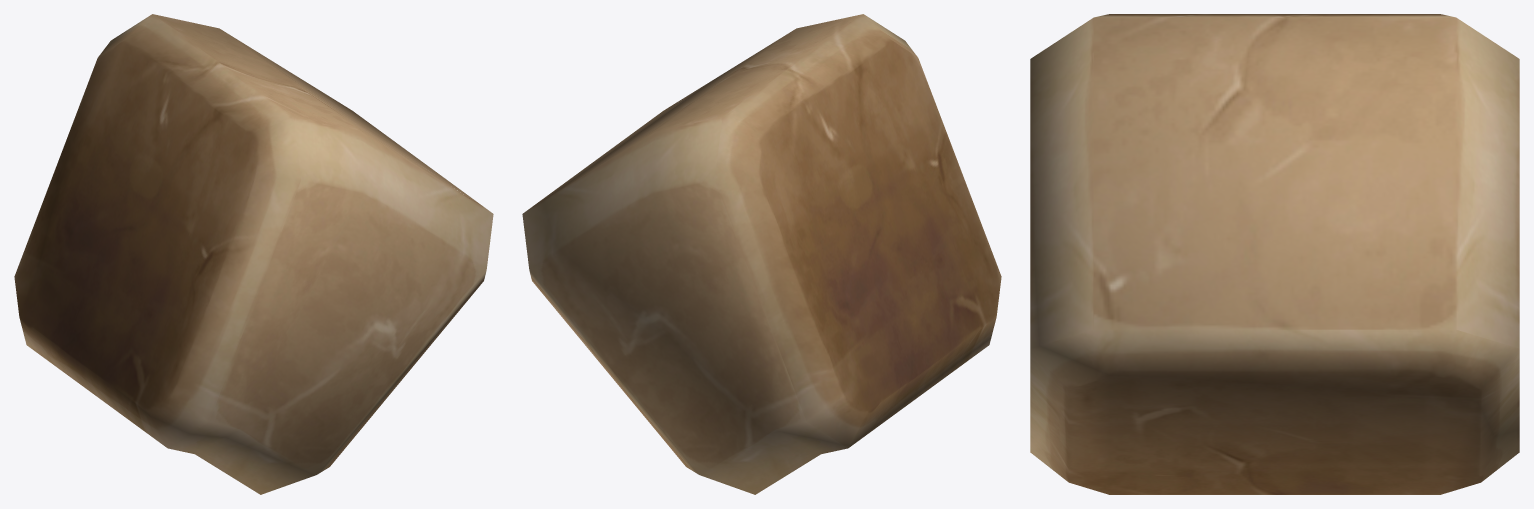
File: DE_House_Mod_Part_62.fbx
3 renders of one model, left to right at view 1: azimuth 30°, elevation 25°; view 2: azimuth 150°, elevation 25°; view 3: azimuth 270°, elevation 25°, orthographic. The views are drawn at different scales.
Parts seen in each view (by area): view 1: DE_House_Mod_Part_62; view 2: DE_House_Mod_Part_62; view 3: DE_House_Mod_Part_62.
Part boxes in pixels (x1,y1,x2,y2): DE_House_Mod_Part_62: (14, 14, 493, 494); DE_House_Mod_Part_62: (522, 14, 1001, 494); DE_House_Mod_Part_62: (1030, 14, 1519, 494).
Size of the model in its own units: 0.6121 by 0.6354 by 0.5935.
